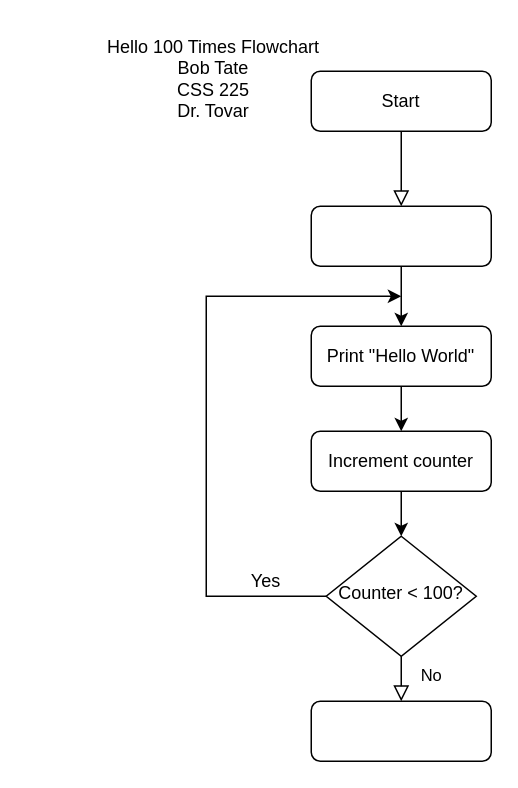
This 518x788 diagram has some shape labels left out. Here are the shapes that lost their labels. From the top down, the centre of each, then its label:
At point 400,235: "Set counter = 0".
At point 400,730: "End".
